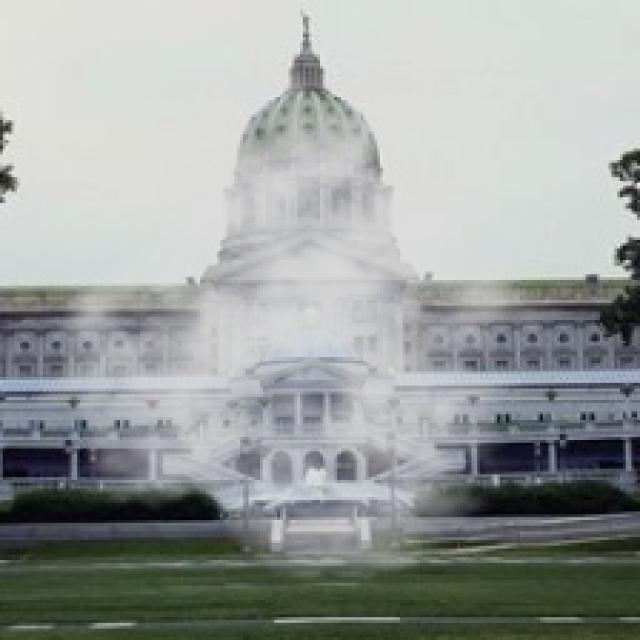Smoke: (34, 68, 589, 583)
